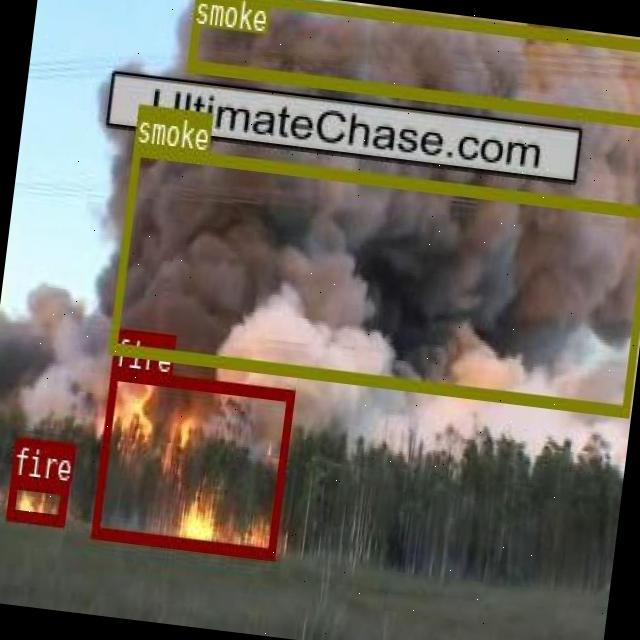fire: (89, 368, 292, 557), (5, 476, 68, 526)
smoke: (107, 142, 640, 413), (185, 0, 640, 125)
